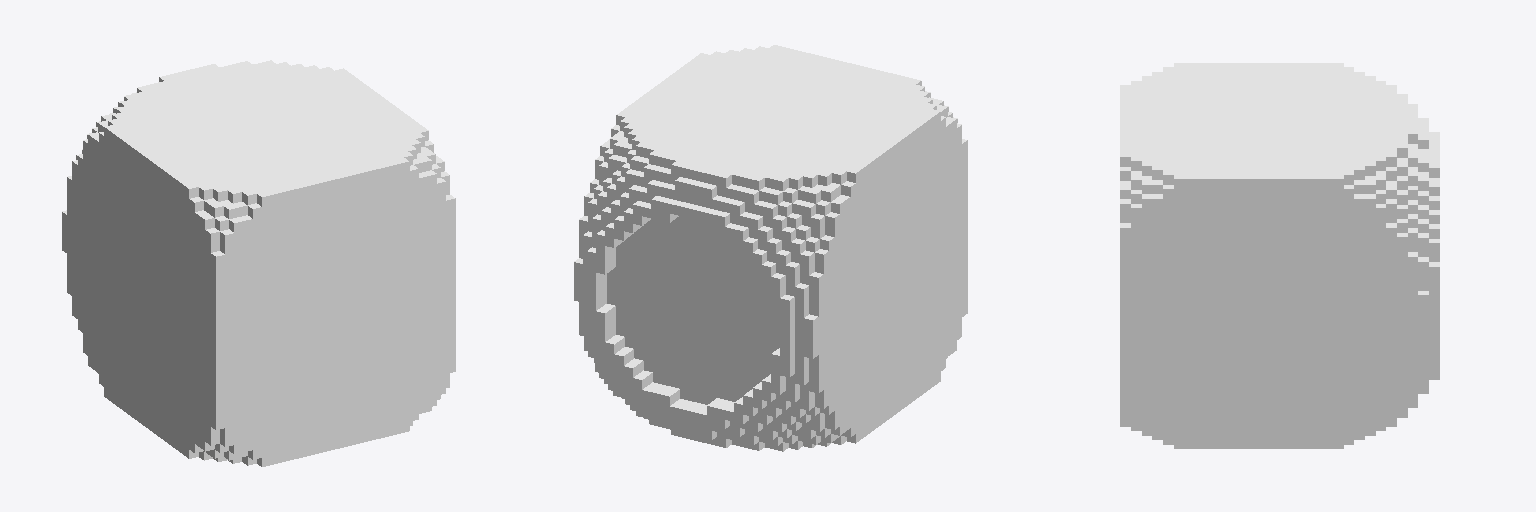
Rendered from sci_pac.obj.
The picture shows the model from 3 angles: view 1: azimuth 30°, elevation 25°; view 2: azimuth 150°, elevation 25°; view 3: azimuth 270°, elevation 25°; orthographic projection.
Parts seen in each view (by area): view 1: object 1; view 2: object 1; view 3: object 1.
Boxes of the visible parts, box(x1,y1,x2,y2) form: object 1: box(62, 60, 455, 466); object 1: box(574, 45, 967, 451); object 1: box(1120, 63, 1439, 448).
Size of the model in its own units: 2.6 by 2.8 by 3.